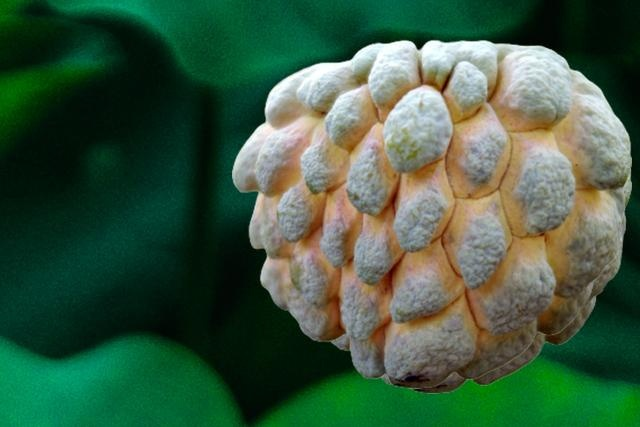atis: (232, 39, 630, 387), (329, 175, 630, 392)
